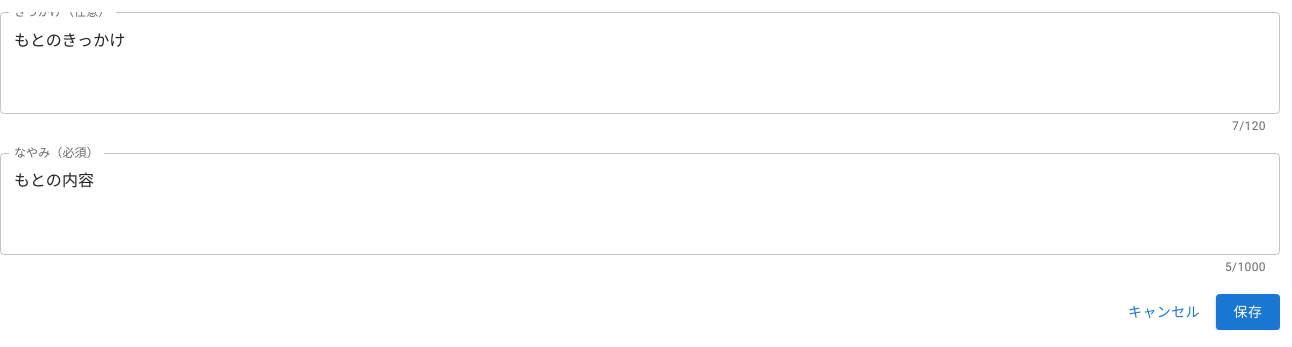
ConcernEditor 異常系 › content を空にして保存すると必須エラーが出て update は呼ばれない
This screenshot has width=1292, height=347.
# content を空にする
Clear the text box labelled "なやみ（必須）" at (640, 204), box top-left (14, 169), bottom-right (1266, 238)
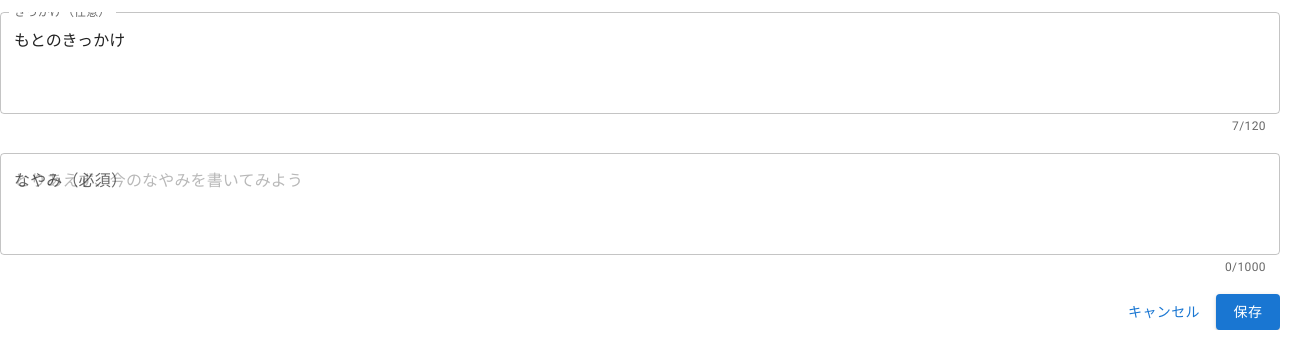
Click the button "保存" at (1248, 312), box top-left (1216, 294), bottom-right (1280, 330)
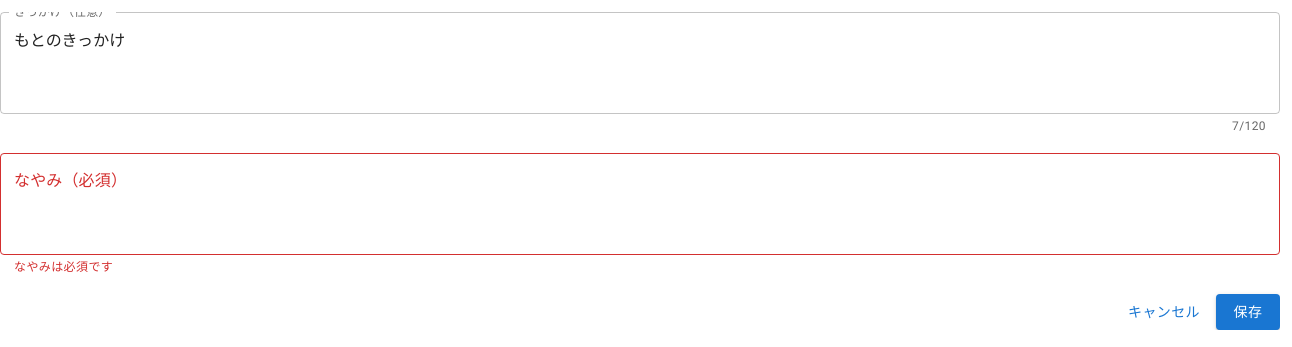
expect the text "なやみは必須です" is shown: met, box top-left (14, 260), bottom-right (113, 274)
